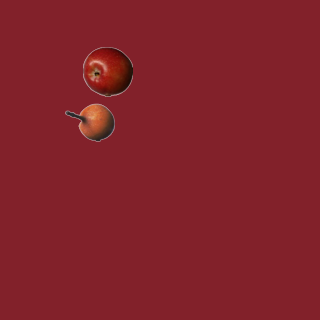Apple Braeburn: (82, 46, 132, 96)
Granadilla: (64, 97, 114, 147)
